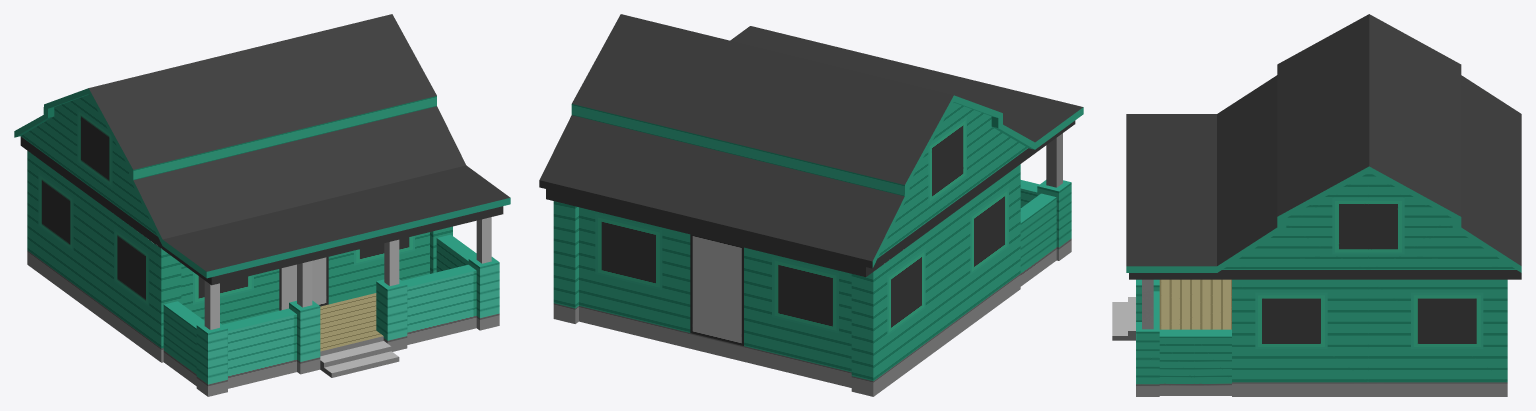
File: house_mesh.fbx
3 renders of one model, left to right at view 1: azimuth 30°, elevation 25°; view 2: azimuth 150°, elevation 25°; view 3: azimuth 270°, elevation 25°, orthographic. The views are drawn at different scales.
Visible parts, largest first — view 1: House_mesh; view 2: House_mesh; view 3: House_mesh.
Boxes of the visible parts, box(x1,y1,x2,y2) form: House_mesh: box(14, 14, 510, 396); House_mesh: box(539, 14, 1083, 396); House_mesh: box(1112, 14, 1521, 396).
Bounding box in the file's own units: 11.82 × 8.45 × 13.42.
Materials: 1 (1 with a texture image).
